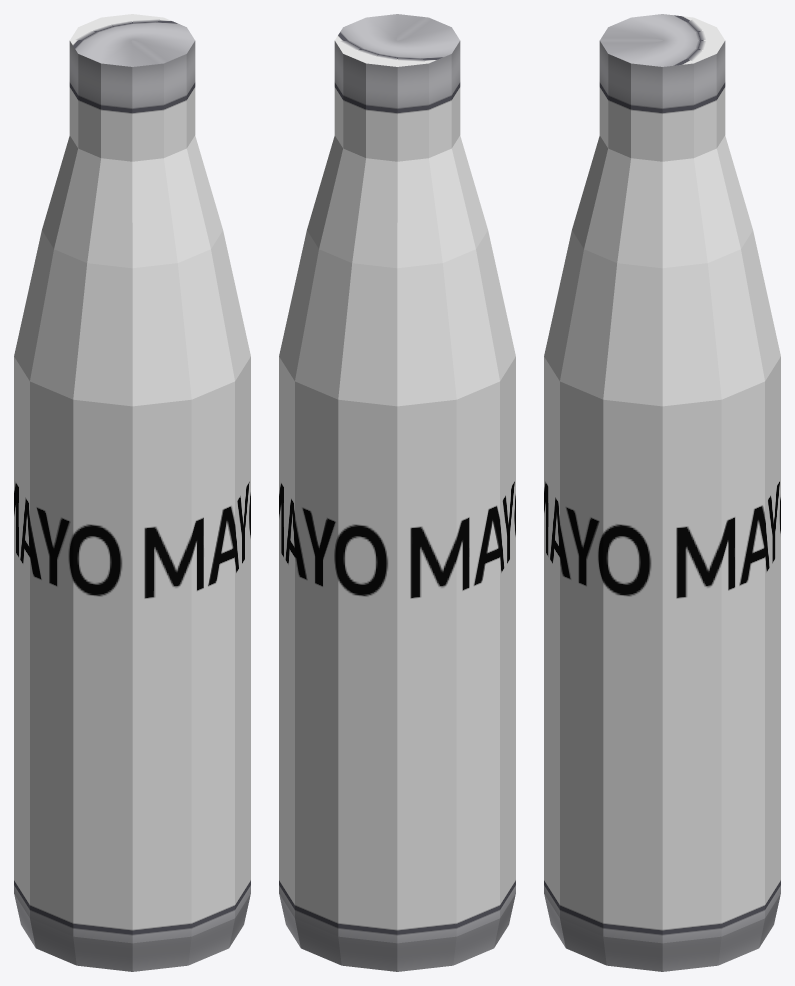
File: fridge_mayo.obj
3 views of the same model, side by side, from view 1: azimuth 30°, elevation 25°; view 2: azimuth 150°, elevation 25°; view 3: azimuth 270°, elevation 25° (orthographic).
Visible parts, largest first — view 1: fridge_mayo; view 2: fridge_mayo; view 3: fridge_mayo.
Boxes of the visible parts, x1,y1,x2,y2 form: fridge_mayo: [14, 14, 250, 971]; fridge_mayo: [279, 14, 515, 971]; fridge_mayo: [544, 14, 780, 971].
Bounding box in the file's own units: 0.068 × 0.28 × 0.068.
Materials: 1 (1 with a texture image).
